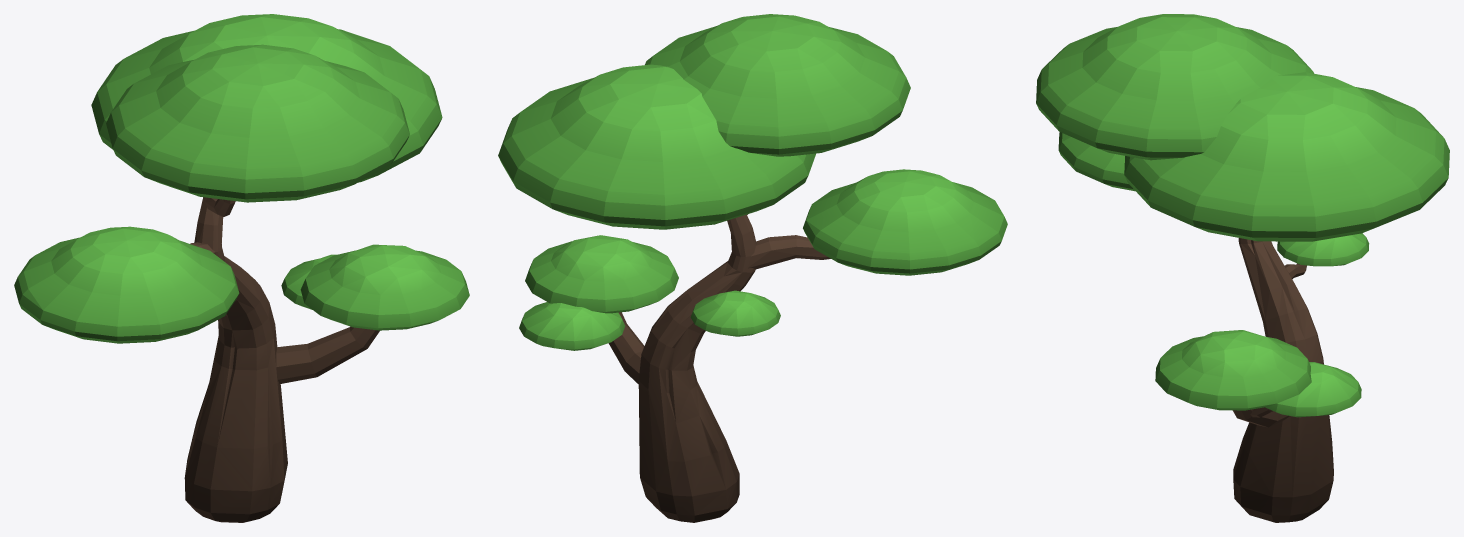
The model's file is tree_giant_ancient.glb.
3 renders of one model, left to right at view 1: azimuth 30°, elevation 25°; view 2: azimuth 150°, elevation 25°; view 3: azimuth 270°, elevation 25°, orthographic. The views are drawn at different scales.
Parts seen in each view (by area): view 1: tree_giant_ancient; view 2: tree_giant_ancient; view 3: tree_giant_ancient.
Part boxes in pixels (left/top/right/bottom): tree_giant_ancient: left=14, top=14, right=469, bottom=522; tree_giant_ancient: left=498, top=14, right=1007, bottom=522; tree_giant_ancient: left=1036, top=14, right=1449, bottom=522.
Bounding box in the file's own units: 21.39 × 22 × 17.57.
